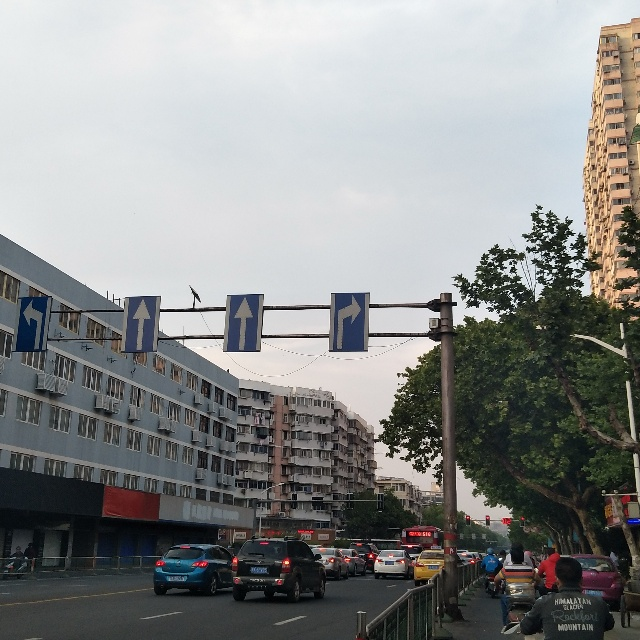left: (21, 298, 47, 351)
right: (334, 292, 367, 352)
straight: (124, 295, 155, 351), (229, 296, 260, 346)
